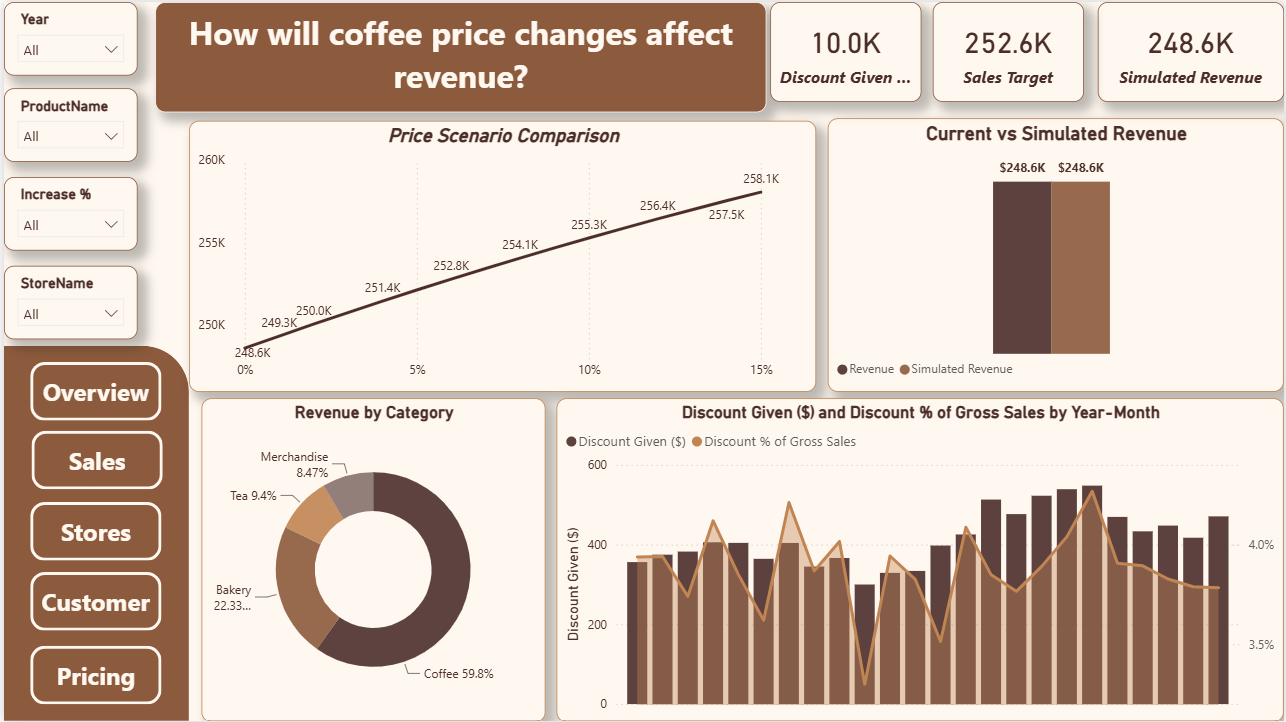

What the dashboard file says about the page in this screenshot:
{"tool":"powerbi","page":{"name":"Pricing Strategy & What-if Analysis","canvas":[1280,720],"ordinal":4},"visuals":[{"type":"slicer","fields":{"Values":["Calendar.Year"]},"box":[0,0,133.8,73.8],"z":0},{"type":"textbox","box":[151.2,0,611.2,110],"z":1000},{"type":"shape","box":[0,343.8,185,376.2],"z":2000},{"type":"lineChart","title":"Price Scenario Comparison","fields":{"Y":["_Measures.Simulated Revenue"],"Category":["Coffee Price Increase.Increase %"]},"box":[185,118.8,627.5,271.2],"z":3000},{"type":"slicer","fields":{"Values":["Products.ProductName"]},"box":[0,86.2,133.8,73.8],"z":4000},{"type":"slicer","fields":{"Values":["Coffee Price Increase.Increase %"]},"box":[0,175,133.8,73.8],"z":5000},{"type":"slicer","fields":{"Values":["Stores.StoreName"]},"box":[0,263.8,133.8,73.8],"z":6000},{"type":"actionButton","title":"Revenue","box":[26.2,360,131.2,58.8],"z":7000},{"type":"actionButton","title":"Revenue","box":[27.5,428.8,131.2,58.8],"z":9000},{"type":"actionButton","title":"Revenue","box":[26.2,500,131.2,58.8],"z":10000},{"type":"actionButton","title":"Revenue","box":[26.2,570,131.2,58.8],"z":11000},{"type":"actionButton","title":"Revenue","box":[26.2,643.8,131.2,58.8],"z":12000},{"type":"clusteredColumnChart","title":"Current vs Simulated Revenue","fields":{"Y":["_Measures.Revenue","_Measures.Simulated Revenue"]},"box":[823.8,116.2,456.2,273.8],"z":13000},{"type":"card","fields":{"Values":["_Measures.Simulated Revenue"]},"box":[1093.8,0,186.2,100],"z":14000},{"type":"card","fields":{"Values":["_Measures.Discount Given ($)"]},"box":[766.2,0,151.2,100],"z":15000},{"type":"donutChart","title":"Revenue by Category","fields":{"Category":["Products.Category"],"Y":["_Measures.Revenue"]},"box":[197.5,396.2,343.8,323.8],"z":16000},{"type":"lineClusteredColumnComboChart","fields":{"Category":["Calendar.Year-Month"],"Y":["_Measures.Discount Given ($)"],"Y2":["_Measures.Discount % of Gross Sales"]},"box":[552.5,396.2,727.5,323.8],"z":17000},{"type":"card","fields":{"Values":["_Measures.Sales Target"]},"box":[928.8,0,151.2,100],"z":18000}]}

Visuals, with their boxes in screenshot pixels (x1, y1, x2, y2), scaled from the page's 1280x720 canvas onto the 1286x722 screenshot:
slicer - Calendar.Year: [x1=0, y1=0, x2=134, y2=74]
textbox: [x1=152, y1=0, x2=766, y2=110]
shape: [x1=0, y1=345, x2=186, y2=721]
"Price Scenario Comparison" lineChart: [x1=186, y1=119, x2=816, y2=391]
slicer - Products.ProductName: [x1=0, y1=86, x2=134, y2=160]
slicer - Coffee Price Increase.Increase %: [x1=0, y1=175, x2=134, y2=249]
slicer - Stores.StoreName: [x1=0, y1=265, x2=134, y2=339]
"Revenue" actionButton: [x1=26, y1=361, x2=158, y2=420]
"Revenue" actionButton: [x1=28, y1=430, x2=159, y2=489]
"Revenue" actionButton: [x1=26, y1=501, x2=158, y2=560]
"Revenue" actionButton: [x1=26, y1=572, x2=158, y2=631]
"Revenue" actionButton: [x1=26, y1=646, x2=158, y2=705]
"Current vs Simulated Revenue" clusteredColumnChart: [x1=828, y1=117, x2=1285, y2=391]
card - _Measures.Simulated Revenue: [x1=1099, y1=0, x2=1285, y2=100]
card - _Measures.Discount Given ($): [x1=770, y1=0, x2=922, y2=100]
"Revenue by Category" donutChart: [x1=198, y1=397, x2=544, y2=721]
lineClusteredColumnComboChart - Calendar.Year-Month x _Measures.Discount Given ($): [x1=555, y1=397, x2=1285, y2=721]
card - _Measures.Sales Target: [x1=933, y1=0, x2=1085, y2=100]
